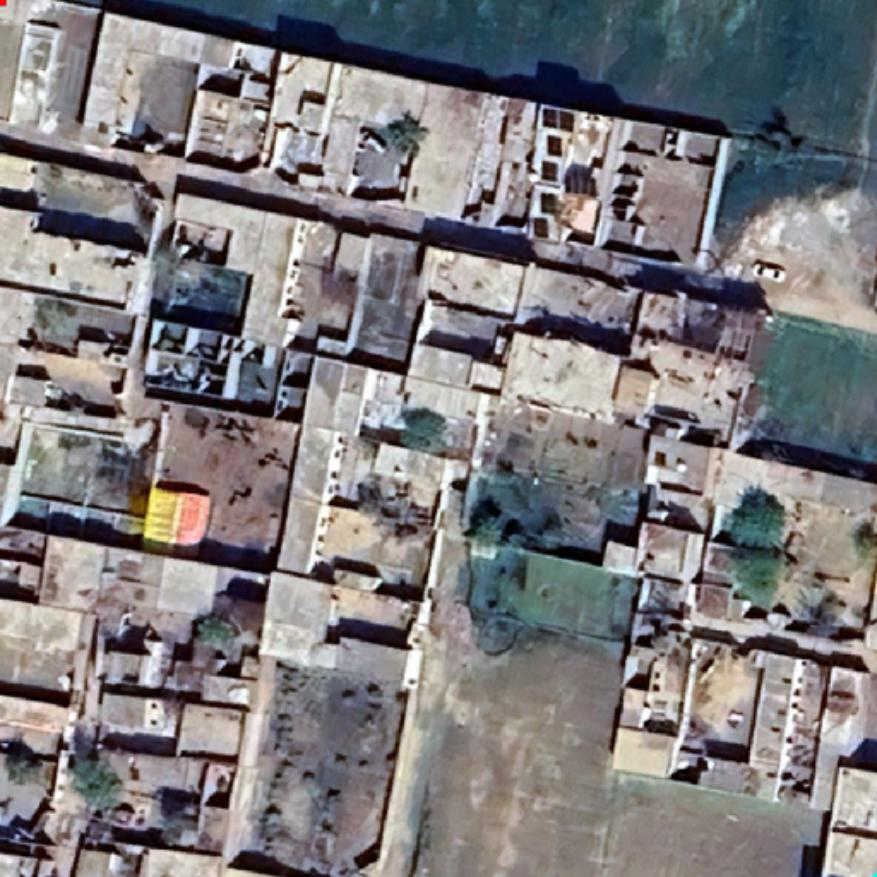Solarpanel: (538, 101, 578, 135), (536, 186, 562, 218), (530, 213, 553, 240), (546, 136, 565, 159), (542, 162, 559, 179)
